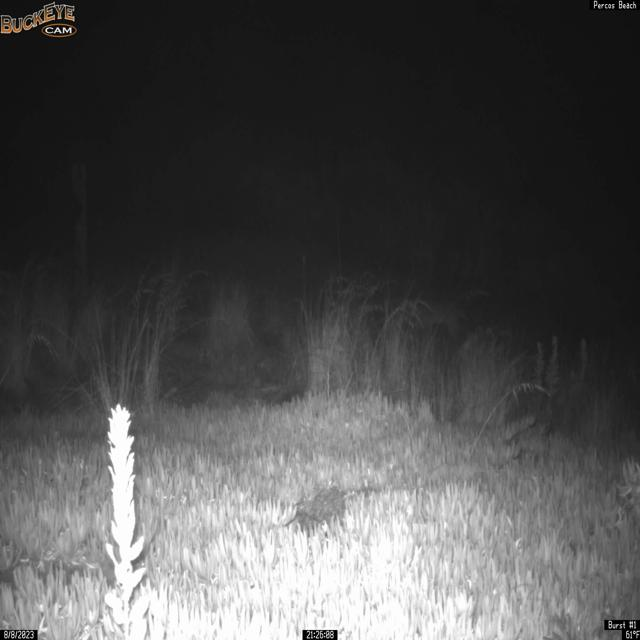coyote: (404, 293, 481, 345)
